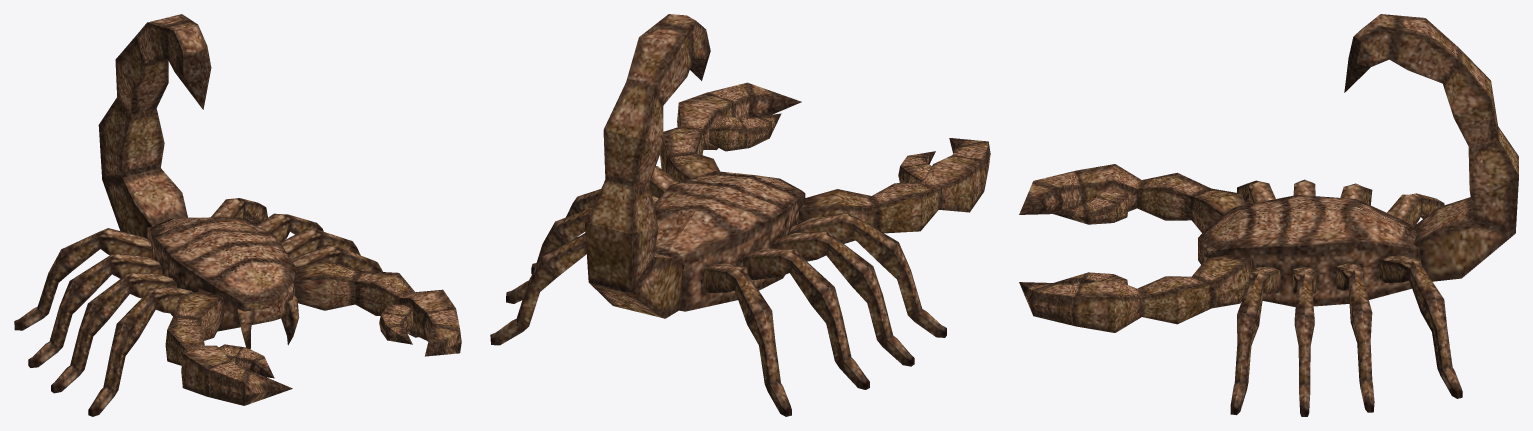
File: sutiramu.obj
The picture shows the model from 3 angles, left to right: view 1: azimuth 30°, elevation 25°; view 2: azimuth 150°, elevation 25°; view 3: azimuth 270°, elevation 25°; orthographic projection. The views are drawn at different scales.
Parts seen in each view (by area): view 1: Tail, Body, ArmLeft, ArmRight, LegRightMiddleBack, LegRightMiddleFront, LegRightBack, LegRightFront, LegLeftFront, LegLeftMiddleFront, HandLeft, LegLeftMiddleBack (+3 smaller); view 2: Tail, Body, ArmRight, ArmLeft, LegRightMiddleBack, LegRightMiddleFront, LegRightFront, LegRightBack, LegLeftBack, HandLeft, LegLeftMiddleBack, HandRight (+2 smaller); view 3: Tail, Body, ArmLeft, ArmRight, LegLeftBack, LegLeftFront, LegLeftMiddleBack, LegLeftMiddleFront, HandRight, LegRightBack, LegRightFront, HandLeft (+1 smaller).
Part boxes in pixels (x1,y1,x2,y2): Tail: [98, 14, 211, 238]; Body: [146, 217, 295, 331]; ArmLeft: [295, 260, 461, 356]; ArmRight: [165, 290, 292, 405]; LegRightMiddleBack: [28, 253, 162, 367]; LegRightMiddleFront: [51, 272, 176, 393]; LegRightBack: [14, 228, 152, 330]; LegRightFront: [88, 287, 193, 416]; LegLeftFront: [291, 244, 418, 337]; LegLeftMiddleFront: [280, 228, 360, 259]; HandLeft: [379, 304, 413, 344]; LegLeftMiddleBack: [256, 213, 323, 247]; Tail: [585, 14, 710, 318]; Body: [654, 171, 805, 311]; ArmRight: [798, 138, 990, 243]; ArmLeft: [660, 82, 801, 182]; LegRightMiddleBack: [743, 248, 869, 389]; LegRightMiddleFront: [772, 231, 914, 366]; LegRightFront: [789, 212, 946, 337]; LegRightBack: [704, 263, 791, 416]; LegLeftBack: [490, 235, 586, 345]; HandLeft: [709, 113, 781, 151]; LegLeftMiddleBack: [506, 208, 591, 303]; HandRight: [898, 151, 935, 182]; Tail: [1344, 14, 1518, 281]; Body: [1198, 195, 1419, 306]; ArmLeft: [1019, 254, 1255, 332]; ArmRight: [1019, 164, 1246, 232]; LegLeftBack: [1379, 255, 1462, 398]; LegLeftFront: [1230, 267, 1280, 415]; LegLeftMiddleBack: [1336, 263, 1374, 412]; LegLeftMiddleFront: [1293, 267, 1316, 416]; HandRight: [1051, 190, 1129, 224]; LegRightBack: [1387, 193, 1444, 225]; LegRightFront: [1237, 180, 1275, 204]; HandLeft: [1054, 272, 1127, 284].
Bounding box in the file's own units: 3.55 × 2.95 × 4.31.
